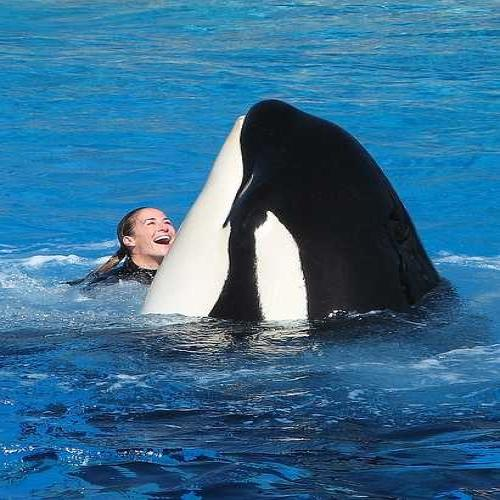killer_whale-endangered: (140, 89, 462, 337)
